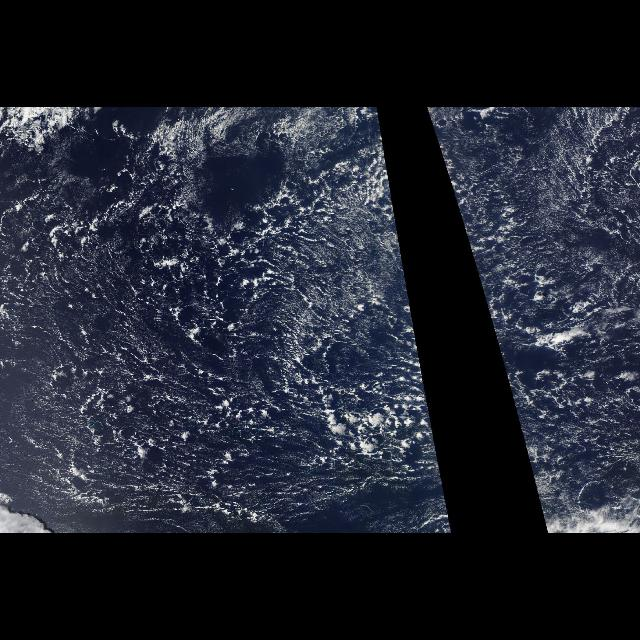Gravel: (42, 212, 418, 524)
